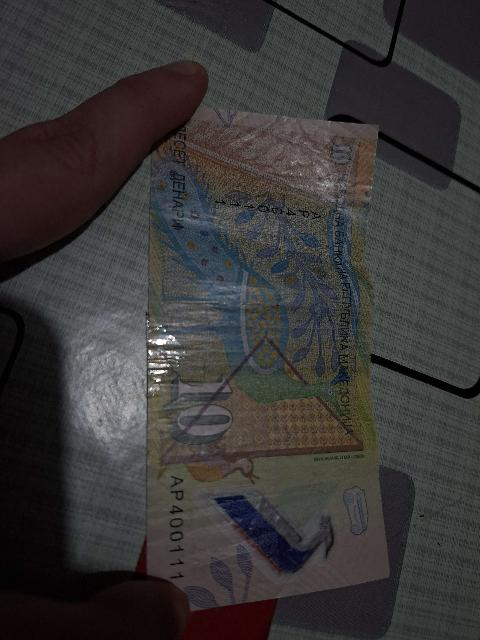note: (142, 109, 394, 612)
